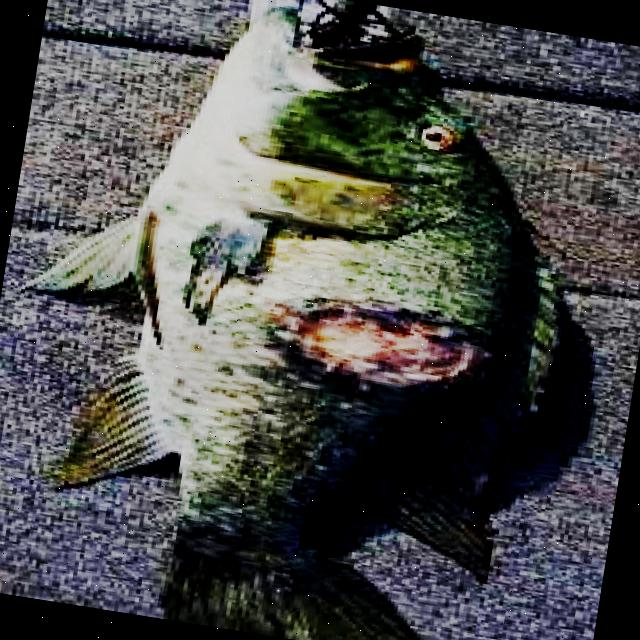Columnaris Disease: (35, 0, 591, 640)
